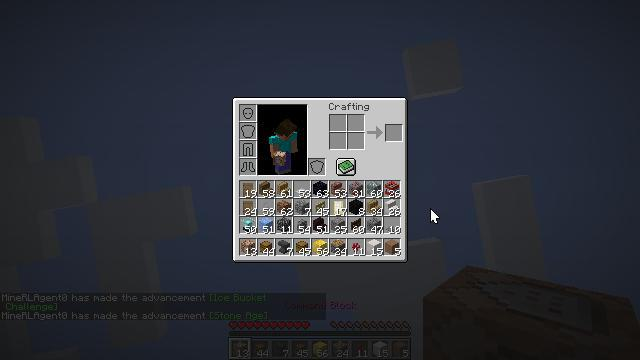cursor: (430, 208, 440, 224)
